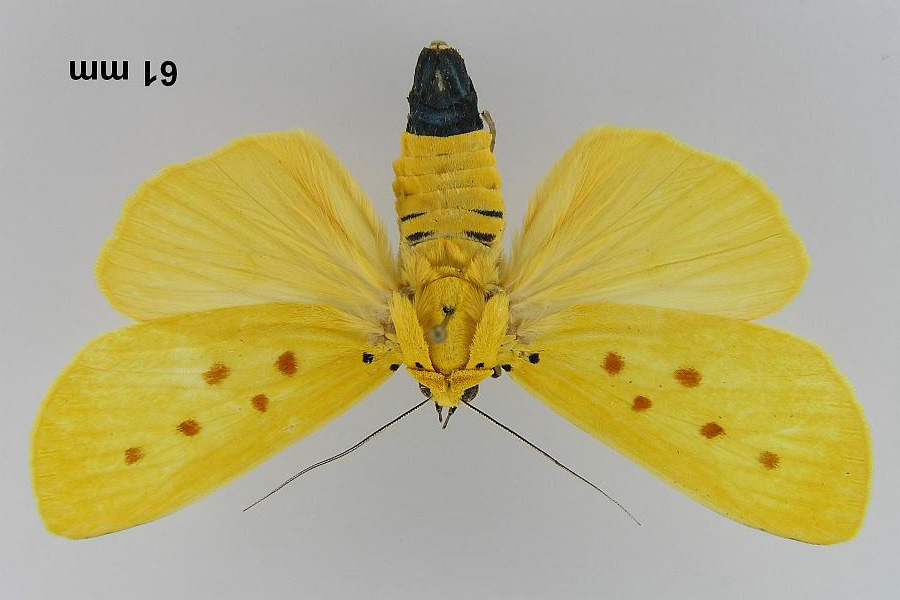Agape chloropyga: (27, 34, 871, 555)
moth: (29, 36, 873, 557)
